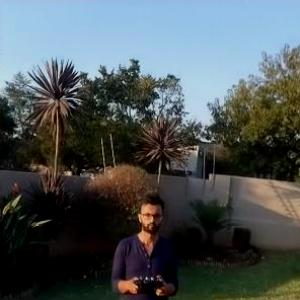follow: (105, 190, 182, 299)
